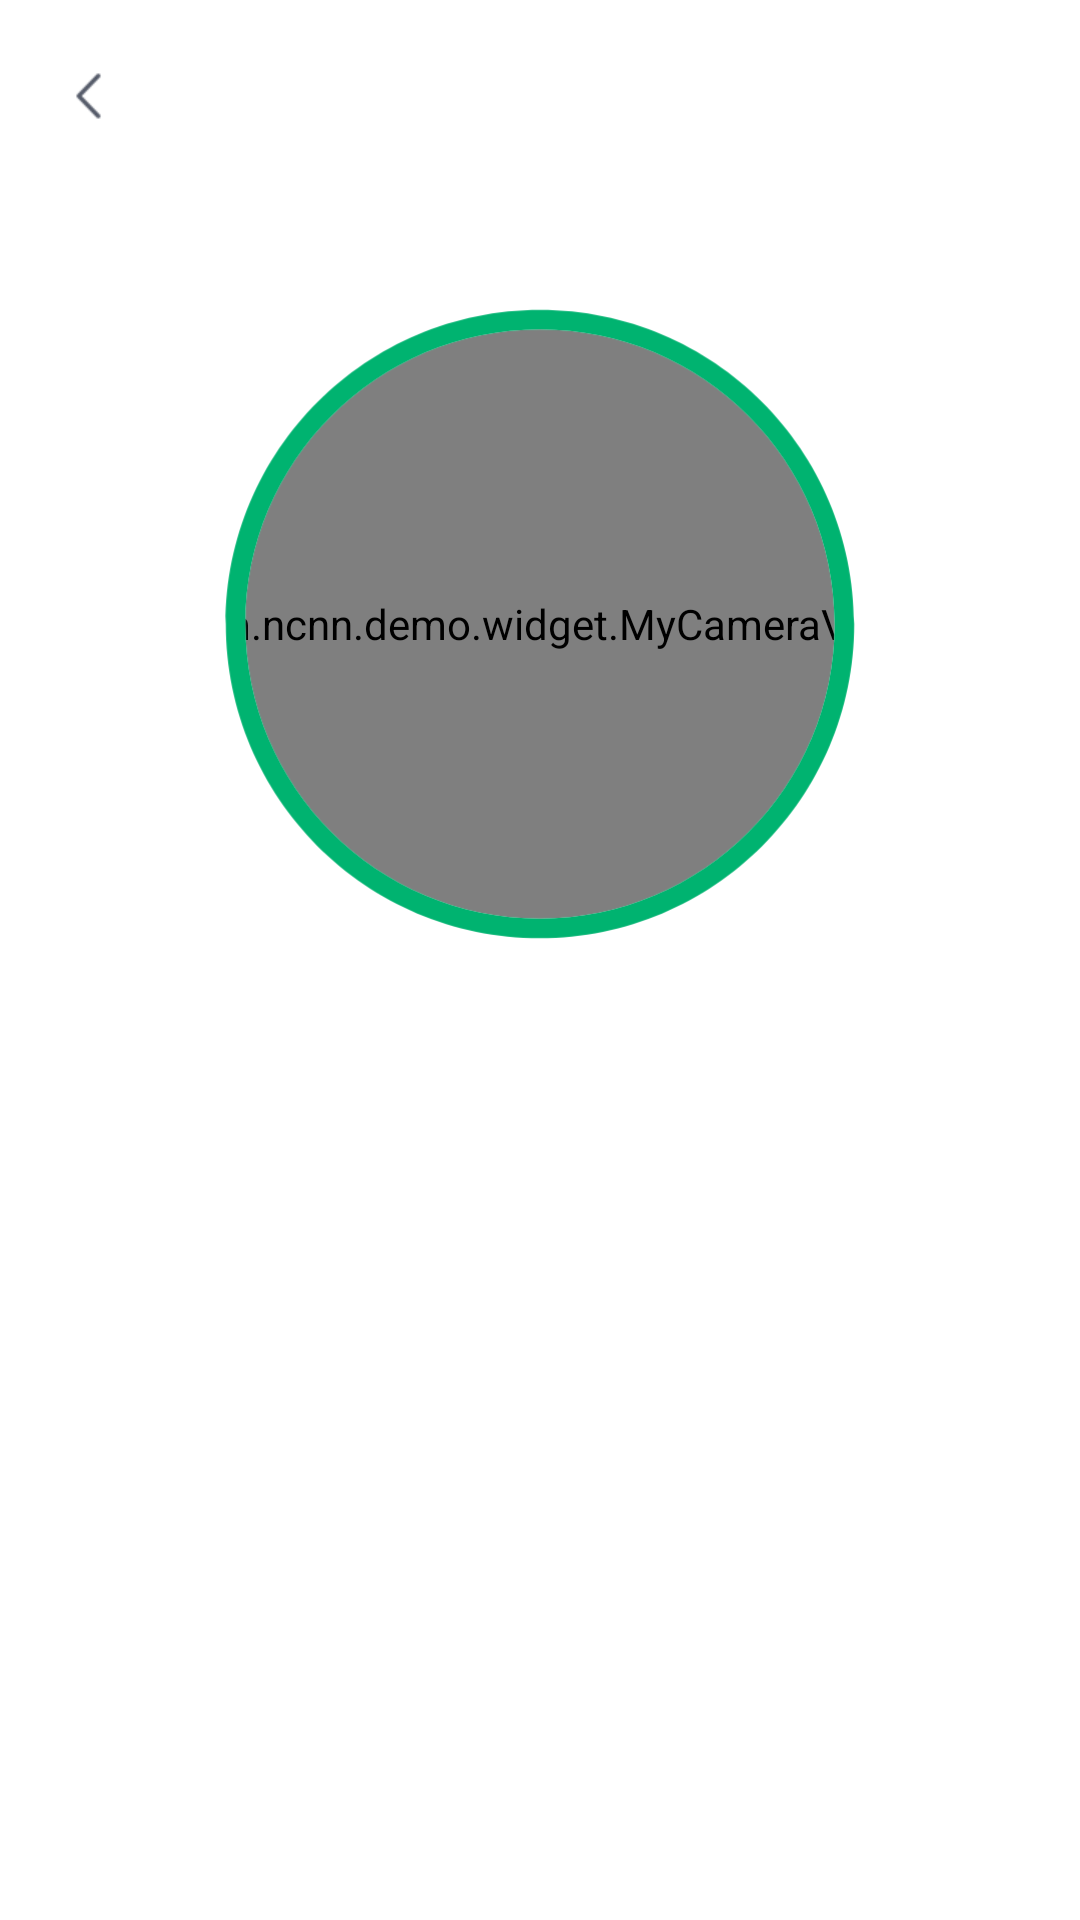

Named icons in this screenshot (1080x1920) and their bounding boxes, (x1=x1, y1=y1, x2=x2, y2=y2):
back: (x1=76, y1=73, x2=101, y2=119)
